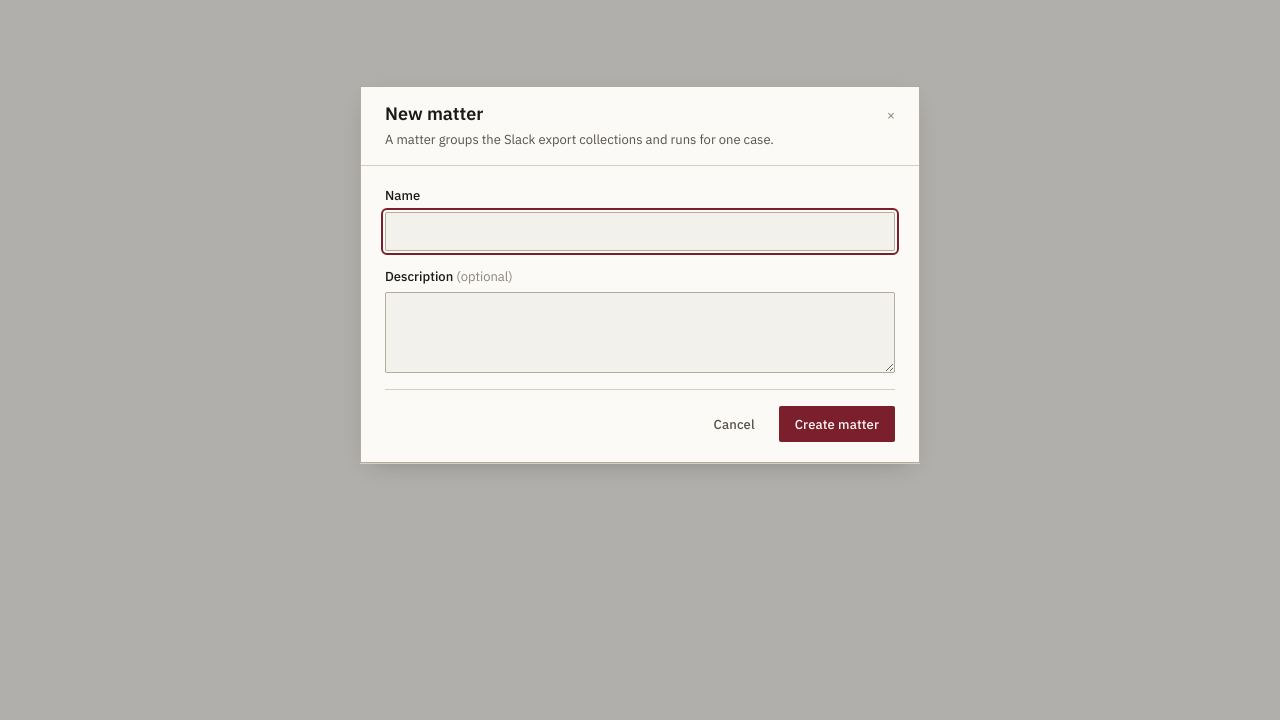
Test: NewMatterDialog › maps_unexpected_api_errors_to_a_form_message
This screenshot has width=1280, height=720.
Type "Acme" into the field labelled "Name".
click(640, 231); type("Acme")  # box [385,212,895,251]
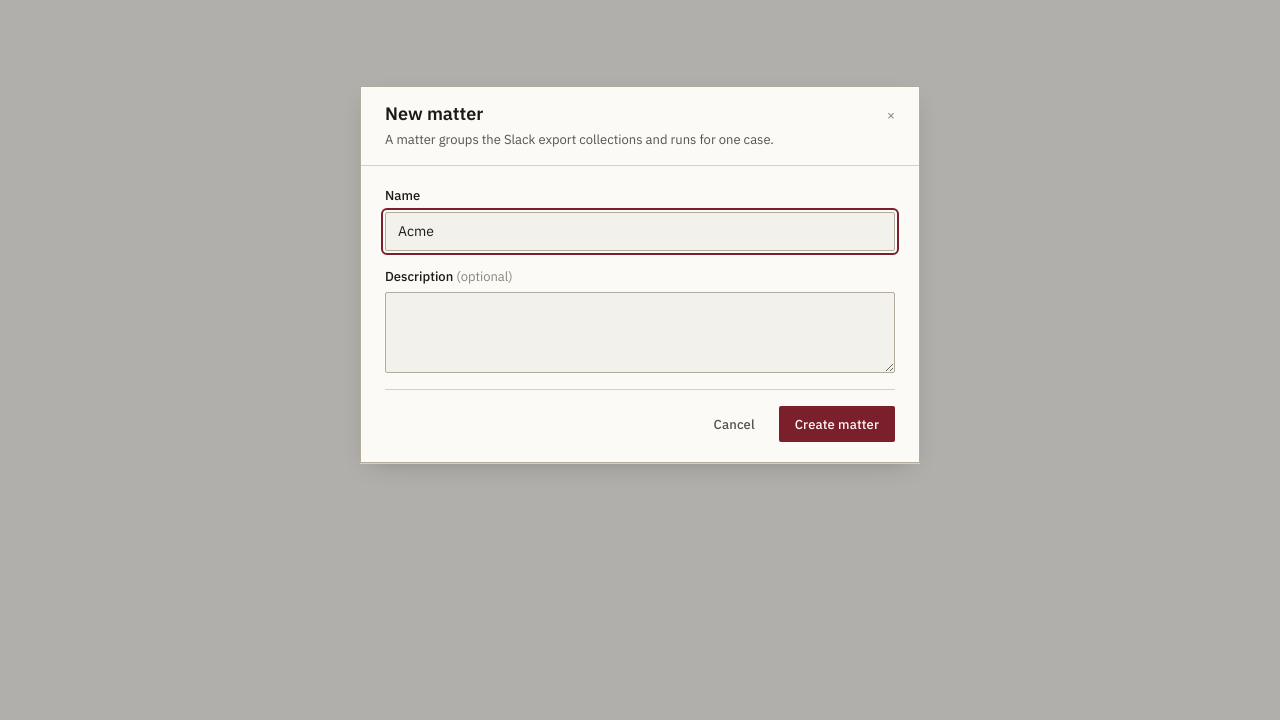
Click the button "Create matter".
click(837, 424)  # box [779,406,895,442]
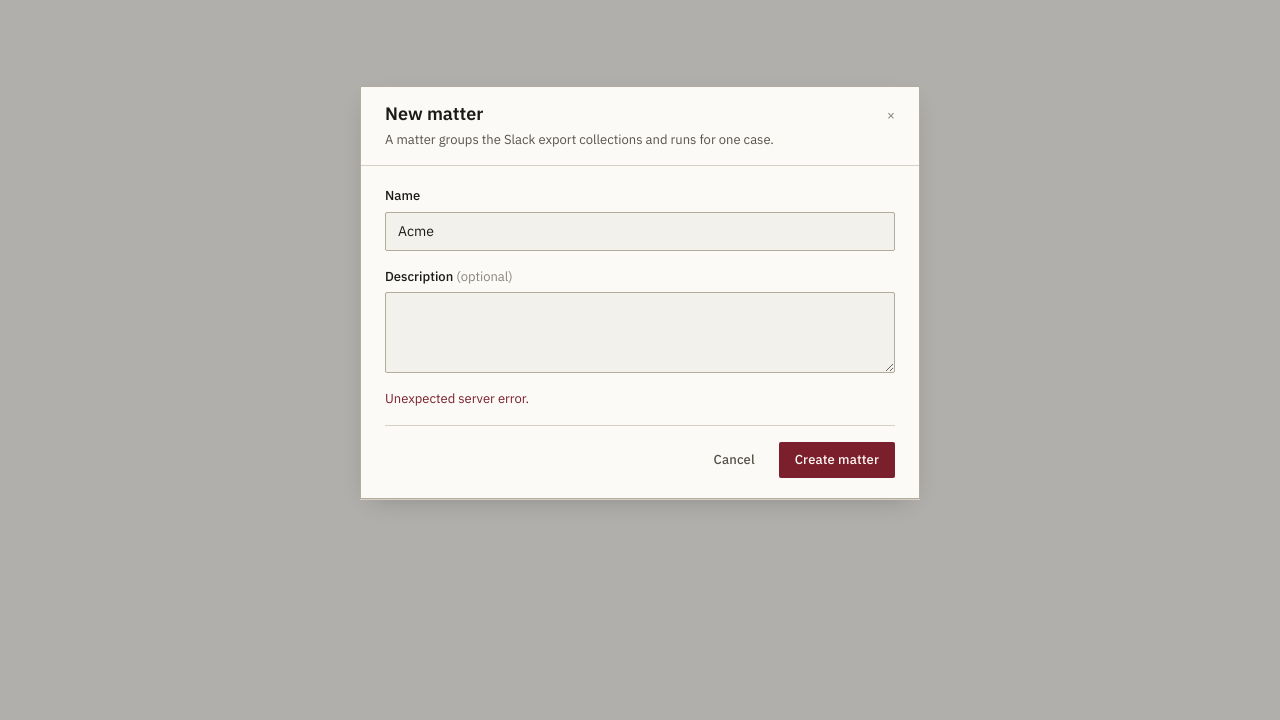
Expected: the text "Unexpected server error." is shown, [385,390,529,407]
